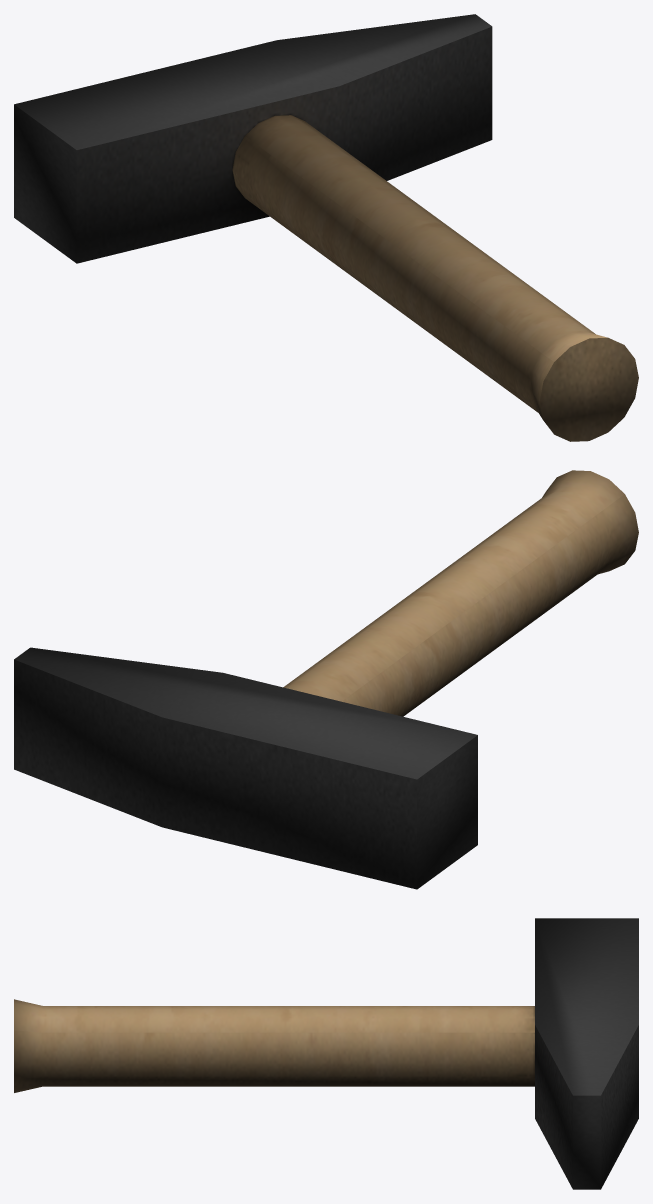
The model's file is mlotek.gltf.
3 renders of one model, top to bottom at view 1: azimuth 30°, elevation 25°; view 2: azimuth 150°, elevation 25°; view 3: azimuth 270°, elevation 25°, orthographic. The views are drawn at different scales.
Visible parts, largest first — view 1: Cube.001; view 2: Cube.001; view 3: Cube.001.
Part boxes in pixels (box(x1,y1,x2,y2)): Cube.001: box(14, 14, 638, 441); Cube.001: box(14, 470, 638, 889); Cube.001: box(14, 918, 638, 1189).
Size of the model in its own units: 1.57 by 0.3883 by 2.34.
2 materials, 2 textured.
